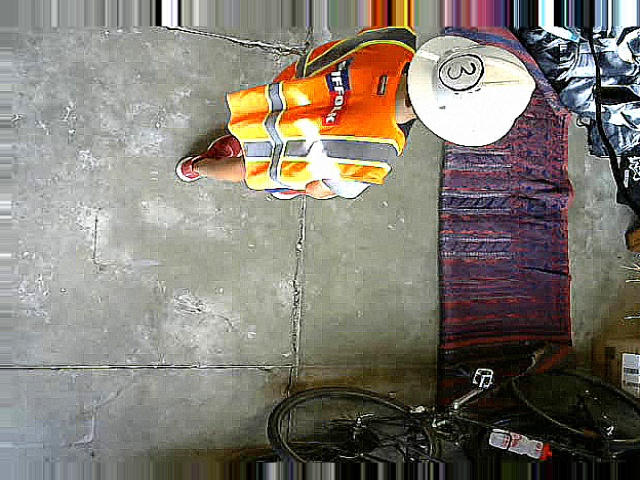three: (437, 53, 484, 90)
